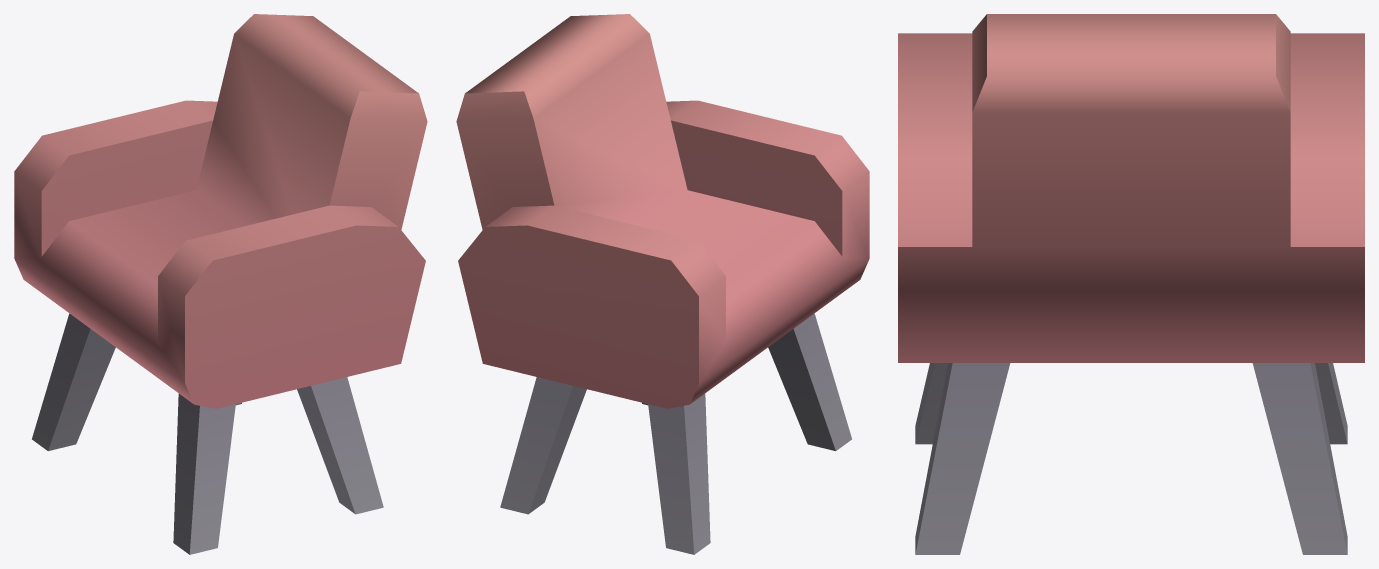
File: chair-comfy-legs-low.glb
3 renders of one model, left to right at view 1: azimuth 30°, elevation 25°; view 2: azimuth 150°, elevation 25°; view 3: azimuth 270°, elevation 25°, orthographic. The views are drawn at different scales.
Parts seen in each view (by area): view 1: chair-comfy-legs-low; view 2: chair-comfy-legs-low; view 3: chair-comfy-legs-low.
Boxes of the visible parts, left/top/right/bottom form: chair-comfy-legs-low: left=14, top=14, right=427, bottom=554; chair-comfy-legs-low: left=456, top=14, right=869, bottom=554; chair-comfy-legs-low: left=898, top=14, right=1364, bottom=554.
Size of the model in its own units: 0.4298 by 0.604 by 0.4711.
